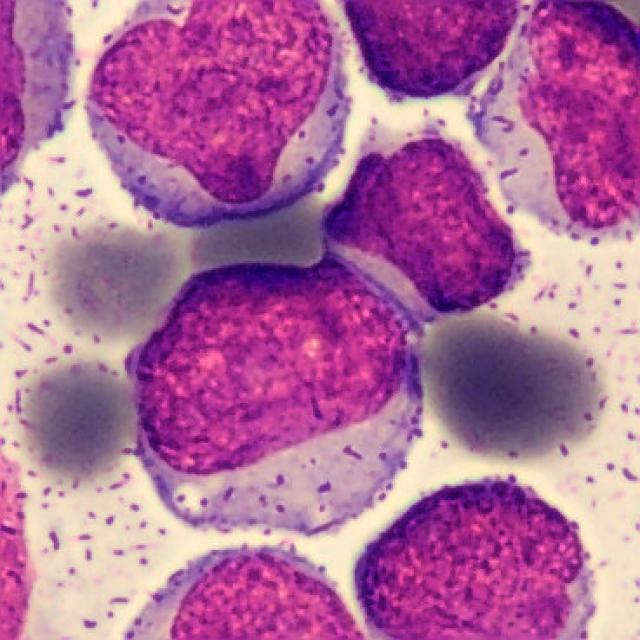Mieloblasto: (127, 259, 421, 529), (87, 0, 351, 228), (323, 116, 530, 337), (463, 3, 640, 240)
